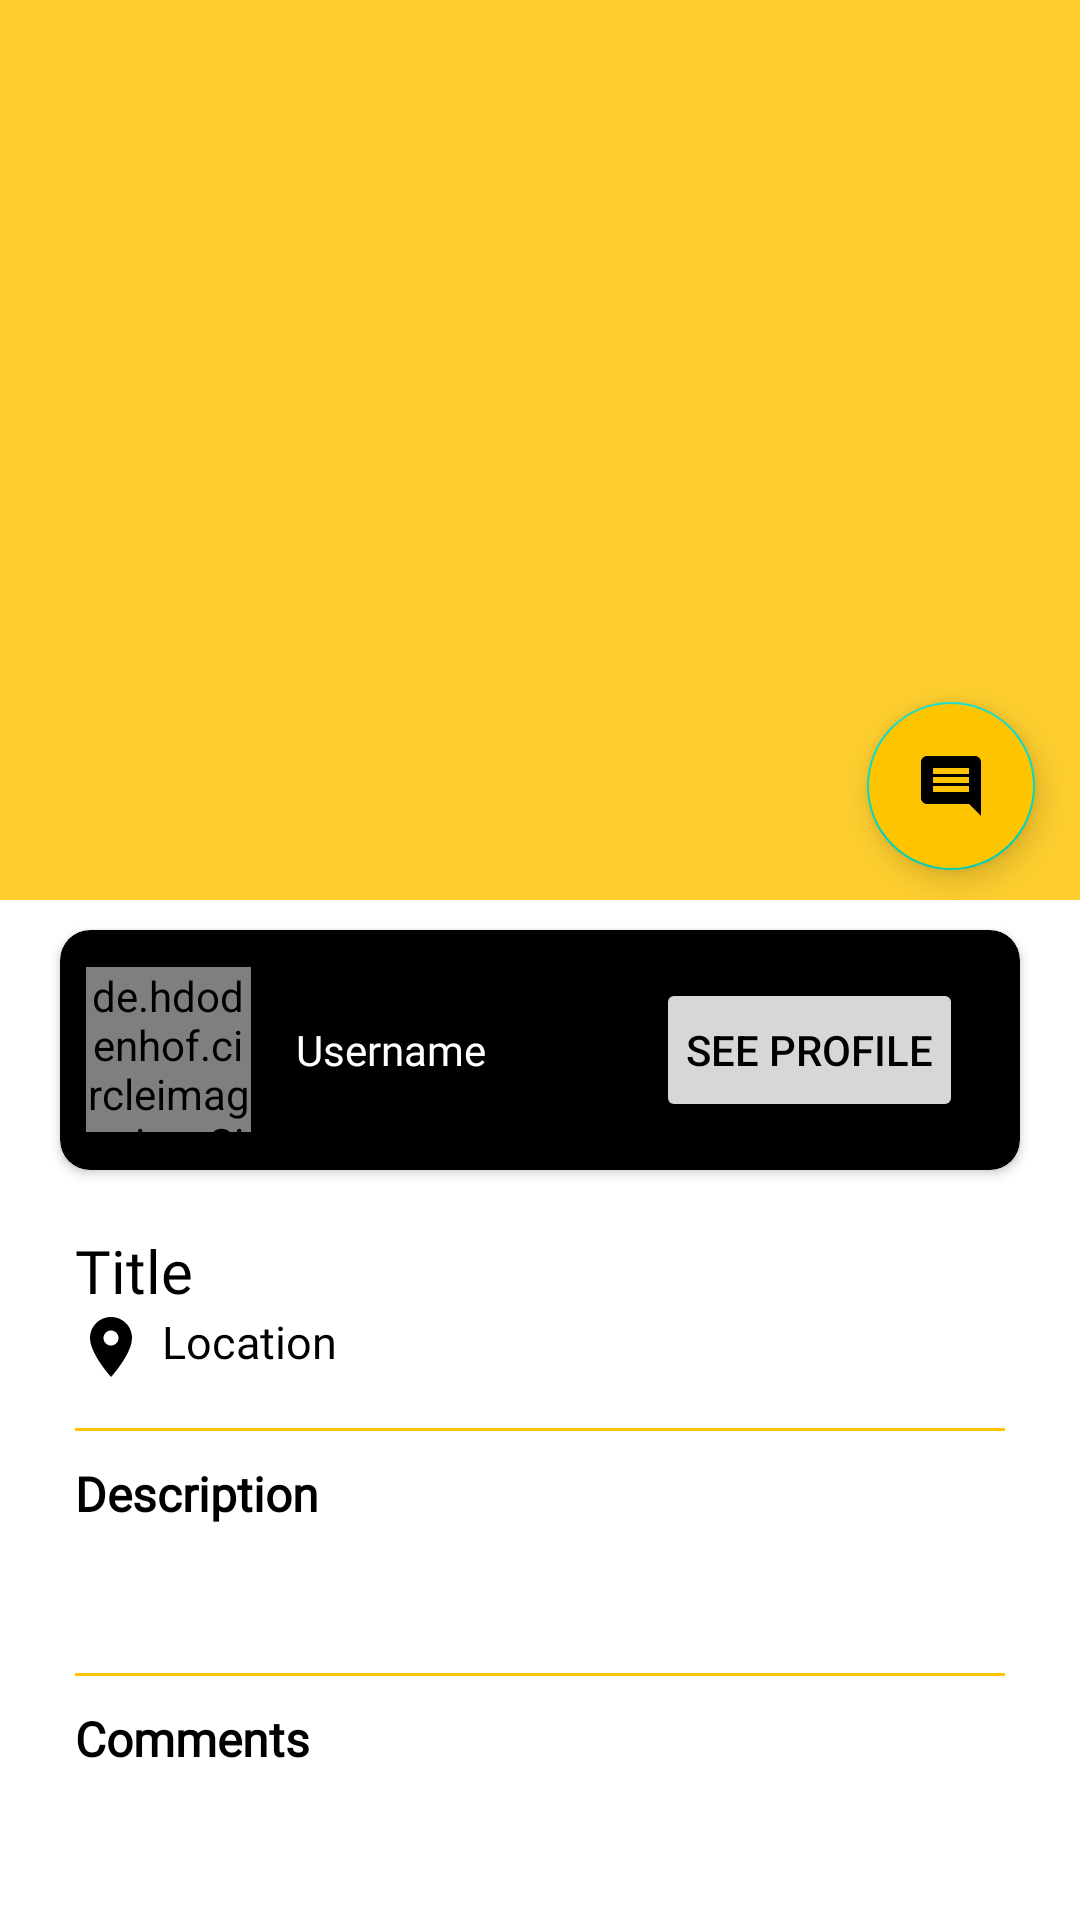

Where to tap for icons on this 1080 × 1920 app screen, as (x=x, y=y):
comment: (x=951, y=786)
